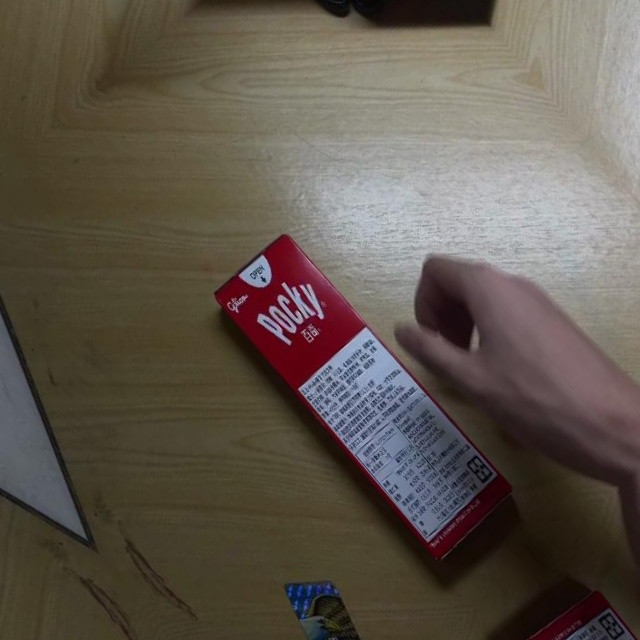Pocky: (208, 224, 519, 566)
